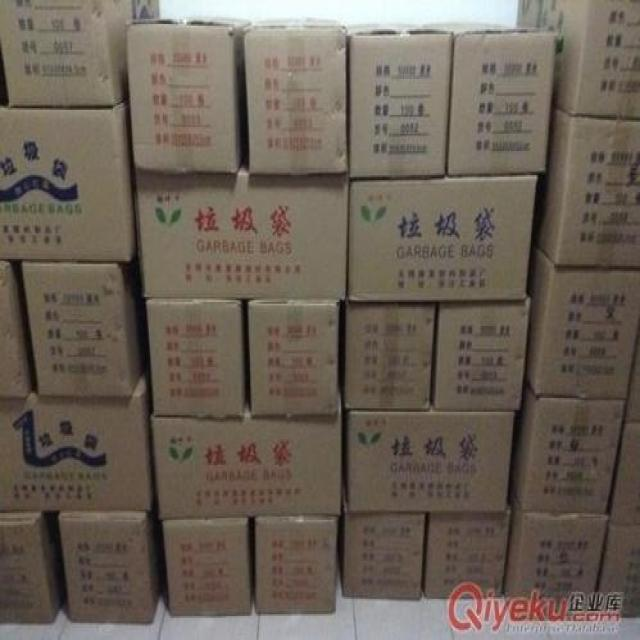box: (133, 168, 348, 300), (348, 173, 537, 302), (0, 100, 137, 263), (150, 407, 342, 522), (0, 376, 155, 513), (427, 24, 555, 177), (126, 19, 250, 172), (525, 244, 640, 402), (342, 410, 514, 513), (532, 106, 640, 268), (0, 0, 160, 108), (23, 257, 144, 398), (346, 24, 453, 178), (244, 21, 348, 177), (510, 381, 625, 515), (517, 0, 640, 120), (501, 489, 605, 616), (59, 503, 165, 625), (146, 300, 249, 417), (432, 300, 531, 410), (248, 302, 339, 417), (342, 302, 436, 412), (339, 492, 425, 601), (163, 518, 251, 616), (254, 518, 339, 614), (0, 513, 67, 625), (425, 513, 508, 599), (595, 523, 640, 618), (608, 422, 640, 527)
